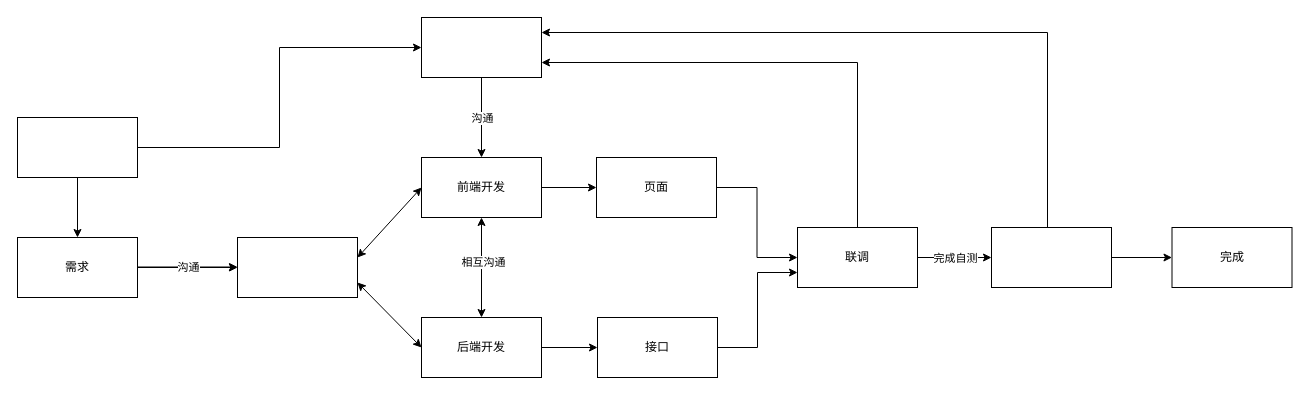
Some shapes in this 1310 by 395 pixel diagram are drawn without their labels. Here are the shapes that lost their labels. From the top down, the box of each, then its label:
(420, 16, 542, 78): 问题
(16, 116, 138, 178): 产品
(236, 236, 358, 298): 云校任务
(990, 226, 1112, 288): 测试
